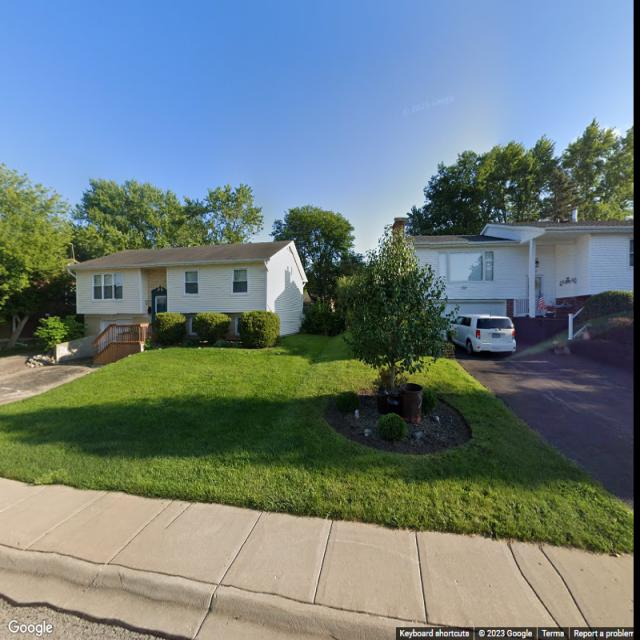House: (64, 240, 309, 364), (390, 217, 632, 340)
